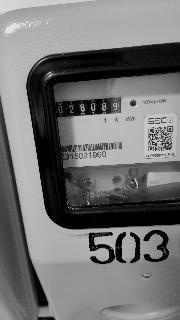1: (59, 107, 63, 114), (91, 104, 95, 111)
3: (70, 106, 74, 113)
9: (81, 105, 85, 112), (102, 104, 106, 111)
:: (114, 104, 118, 111)
